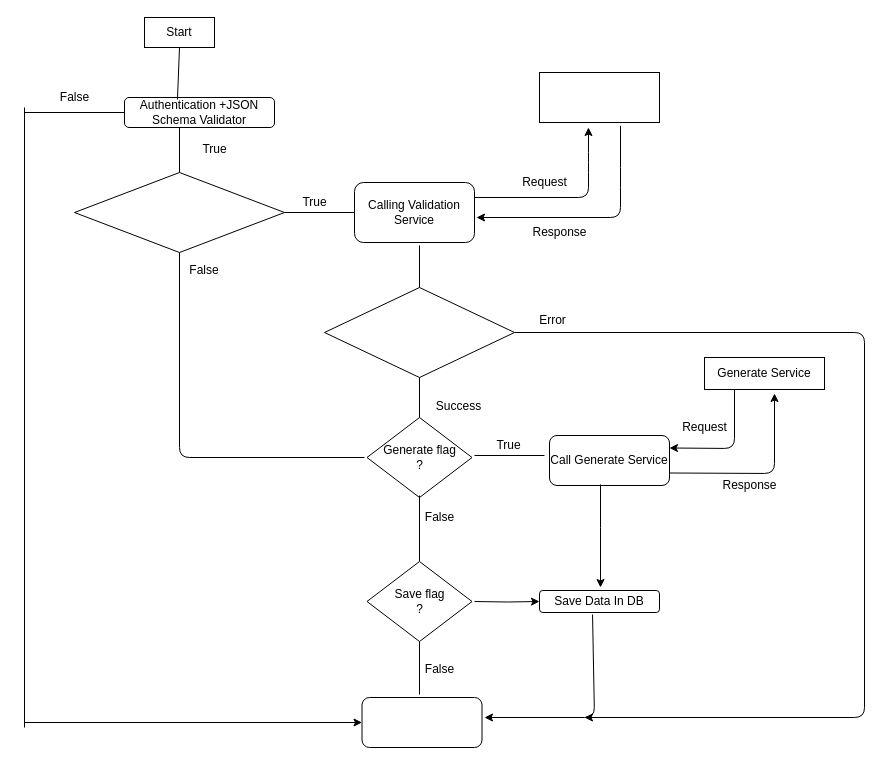
Some shapes in this 890 by 765 pixel diagram are drawn without their labels. Each missing label, with the centre of its shape:
"Check Validation Status from Response" goes at point (419, 332).
"Return Response and Exit" goes at point (421, 722).
"Validation Flag=?" goes at point (179, 212).
"Validation Service(Business Validations)" goes at point (599, 97).
